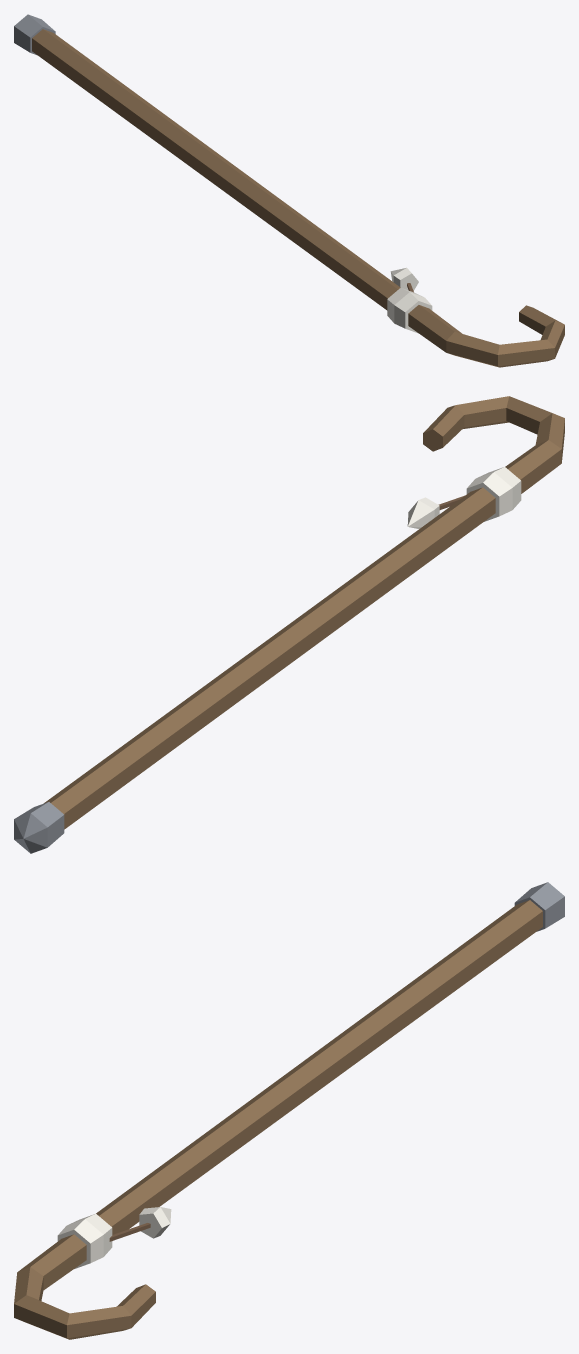
The model's file is pilgrimstaff.glb.
3 renders of one model, top to bottom at view 1: azimuth 30°, elevation 25°; view 2: azimuth 150°, elevation 25°; view 3: azimuth 330°, elevation 25°, orthographic. The views are drawn at different scales.
Parts seen in each view (by area): view 1: pilgrimstaff; view 2: pilgrimstaff; view 3: pilgrimstaff.
Part boxes in pixels (x1,y1,x2,y2): pilgrimstaff: (14, 14, 564, 367); pilgrimstaff: (14, 396, 564, 853); pilgrimstaff: (14, 882, 564, 1339).
Size of the model in its own units: 0.2153 by 0.068 by 1.56.
